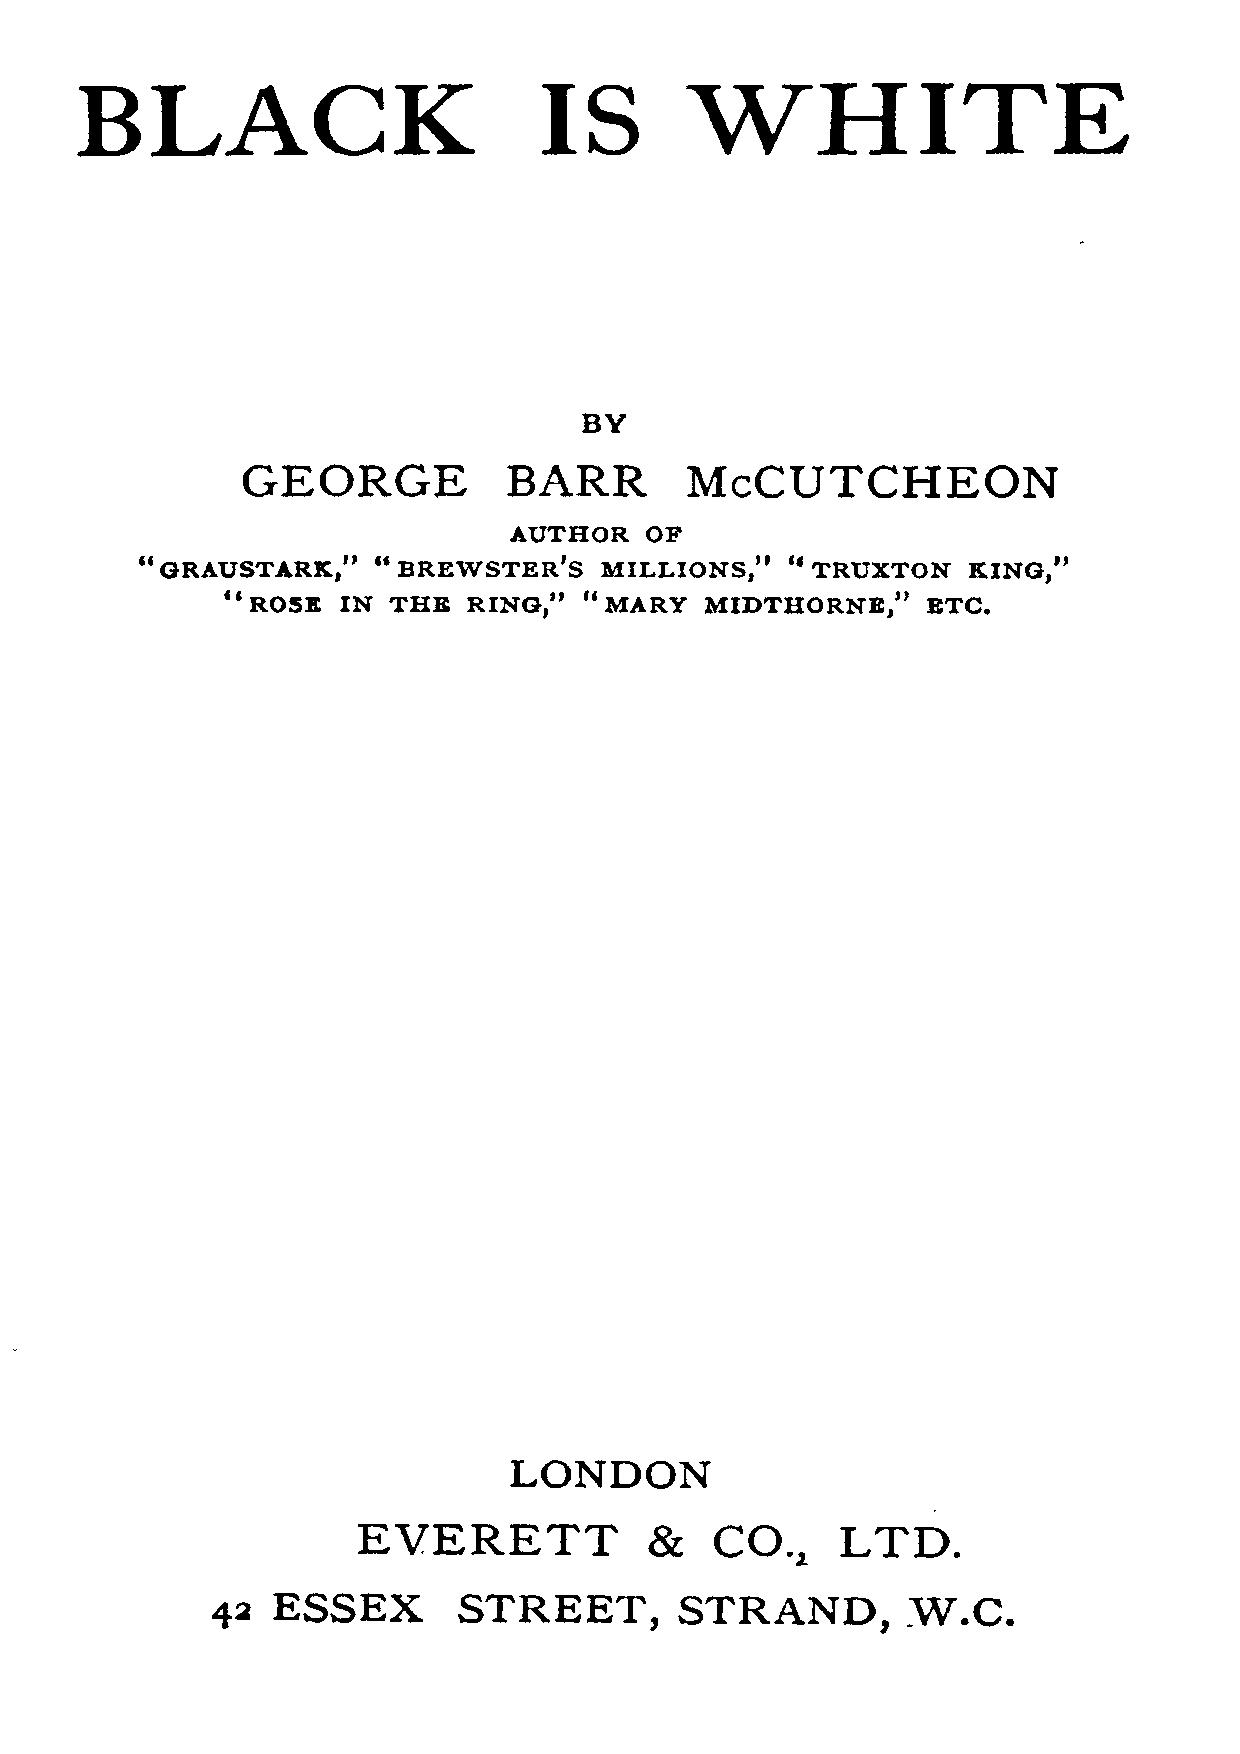author: (236, 411, 1059, 501)
title: (68, 81, 1131, 157)
